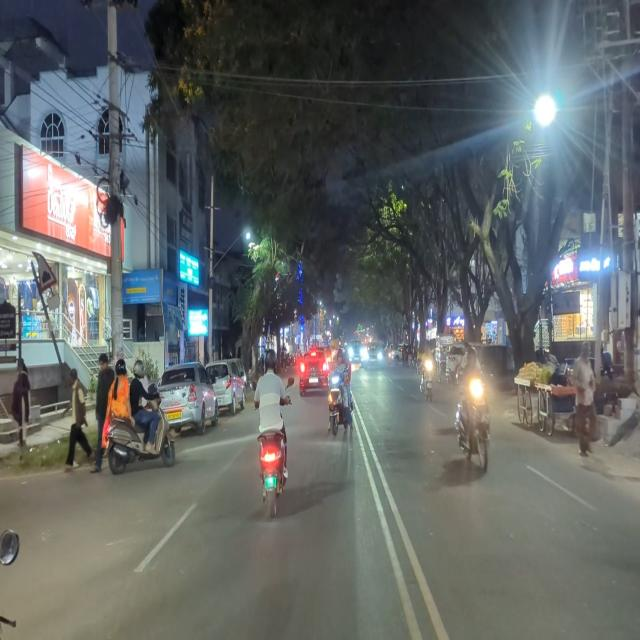bien_cam: (33, 251, 66, 297), (264, 330, 272, 343)
